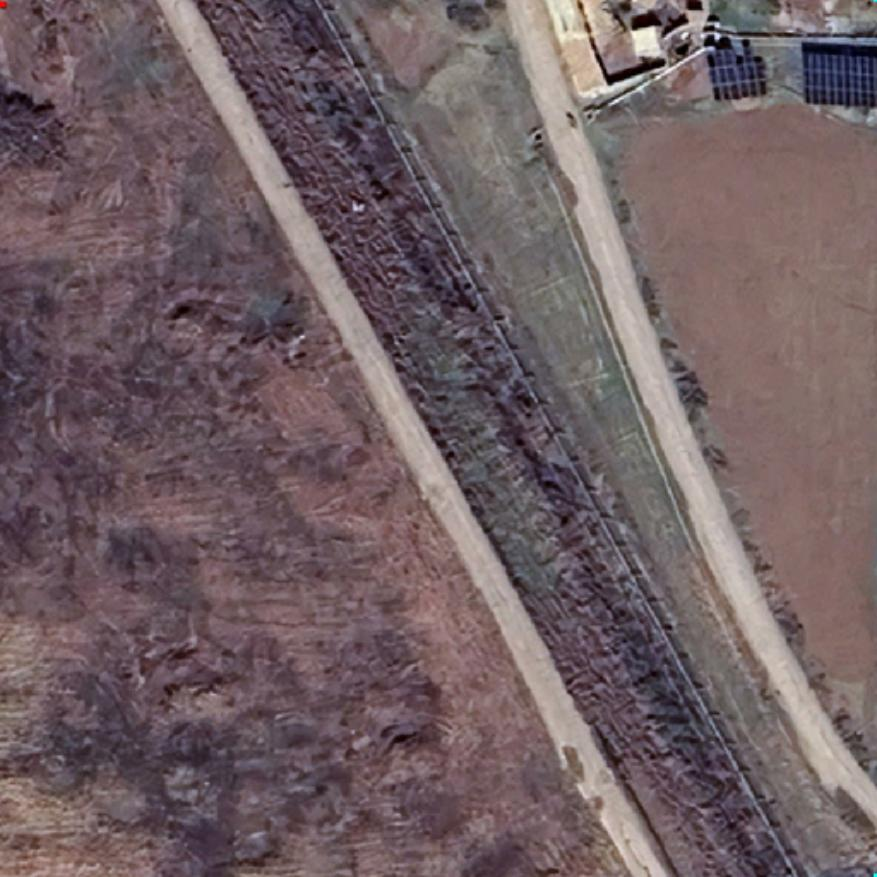Solarpanel: (796, 34, 876, 114), (702, 42, 772, 105)
